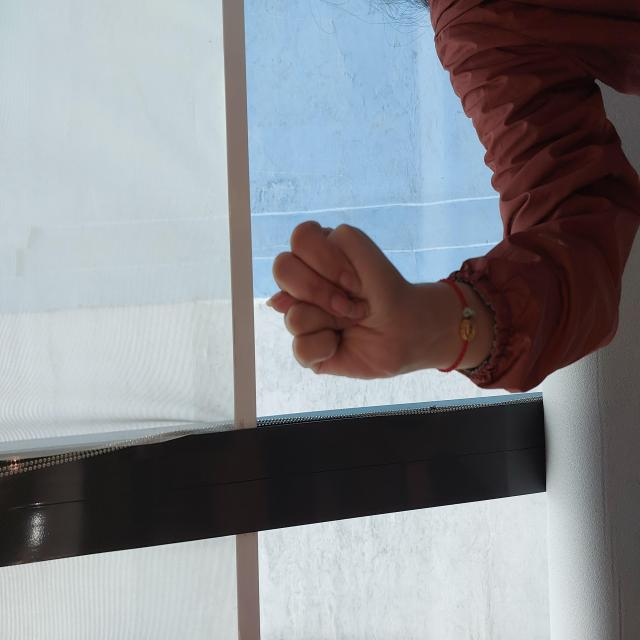N: (256, 262, 420, 414)
